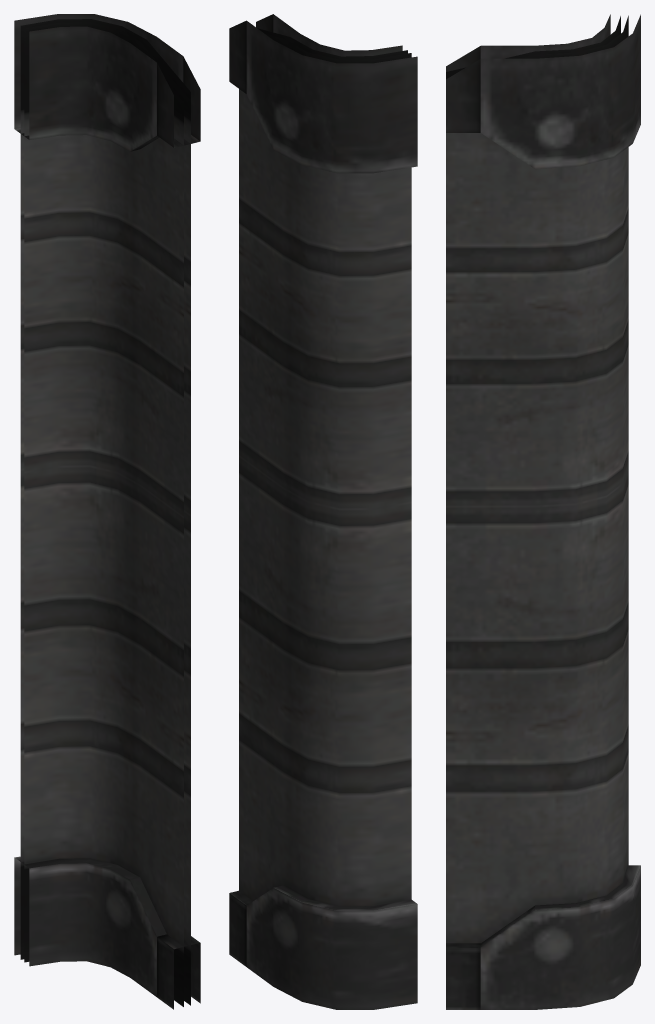
File: p6_metal_panel_railing_90l_lod0.glb
The picture shows the model from 3 angles, left to right: view 1: azimuth 30°, elevation 25°; view 2: azimuth 210°, elevation 25°; view 3: azimuth 270°, elevation 25°; orthographic projection.
Parts seen in each view (by area): view 1: surf0; view 2: surf0; view 3: surf0.
Part boxes in pixels (x1,y1,x2,y2): surf0: (14,14,200,1009); surf0: (229,14,417,1009); surf0: (446,14,640,1009).
Bounding box in the file's own units: 3.54 × 35.03 × 6.51.
